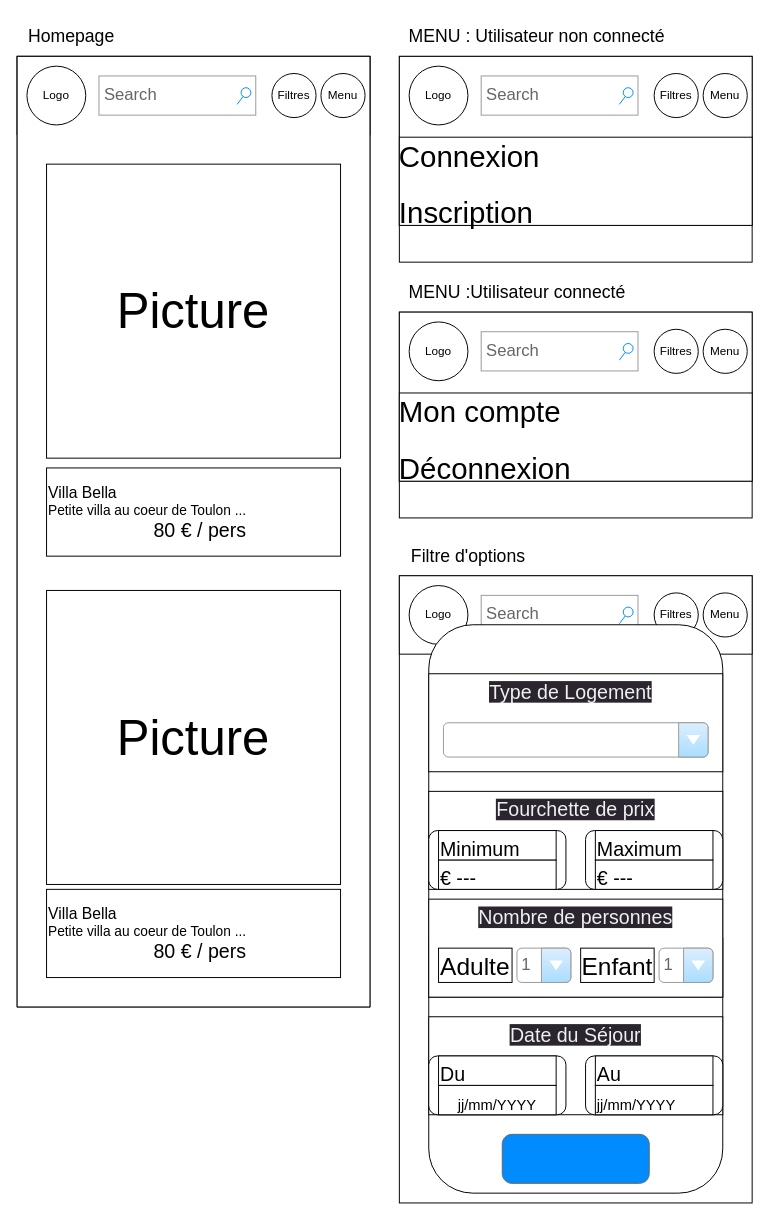
The diagram is 769 pixels wide and 1220 high, and some of its shapes have lost their labels. The centre of each missing label's shape, as x and y in pixels:
"Option 1" goes at point 575,739.
"Valider" goes at point 575,1158.
